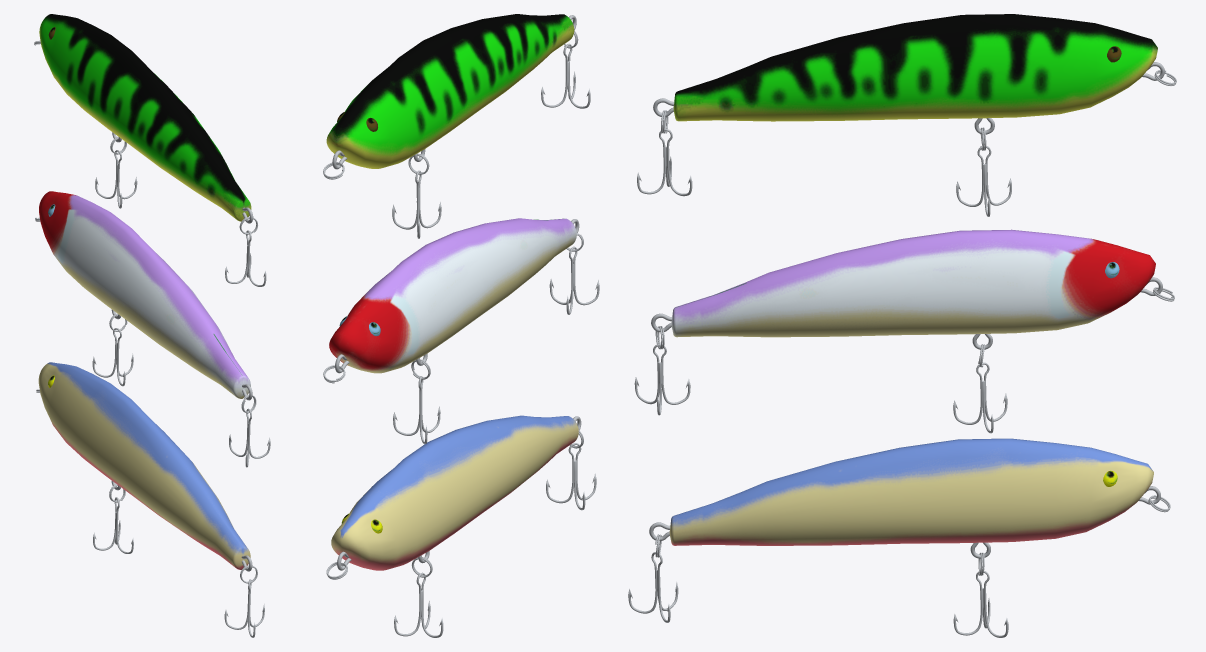
The model's file is lure_minnow.glb.
3 views of the same model, side by side, from view 1: azimuth 30°, elevation 25°; view 2: azimuth 150°, elevation 25°; view 3: azimuth 270°, elevation 25° (orthographic). The views are drawn at different scales.
Visible parts, largest first — view 1: r1_03 - Default_0; view 2: r1_03 - Default_0; view 3: r1_03 - Default_0.
Part boxes in pixels (x1,y1,x2,y2): r1_03 - Default_0: (34, 14, 270, 637); r1_03 - Default_0: (323, 14, 599, 637); r1_03 - Default_0: (628, 14, 1176, 637).
Bounding box in the file's own units: 1.05 × 8.27 × 6.8.
1 material, 1 textured.
